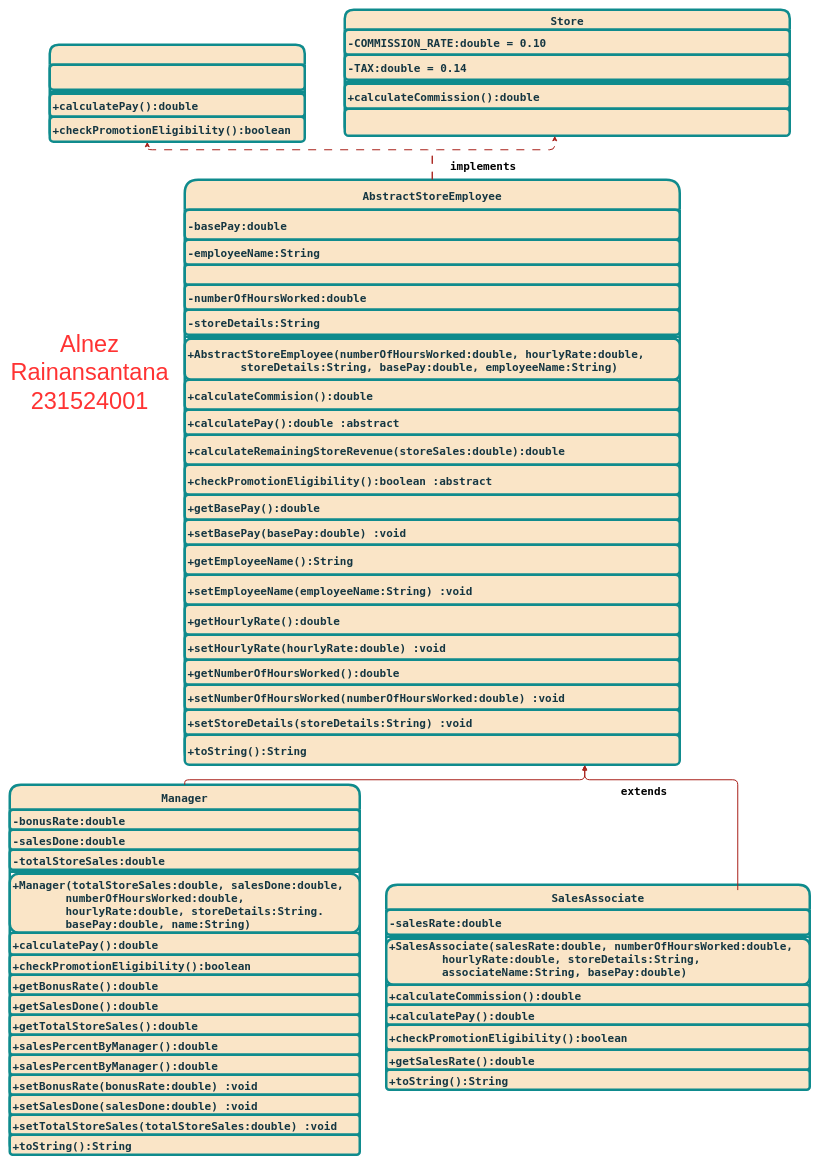
Image size: 820x1165. Some labels were removed from this diagram. The shapes that lost their labels are listed below. From the top down, each one's box as (x1, y1, x2, y2) in pixels, then its label:
(48, 43, 306, 143): Employee
(343, 107, 791, 137): +calculateRemainingStoreRevenue(storeSales:double)
(183, 263, 681, 286): -hourlyRate:double
